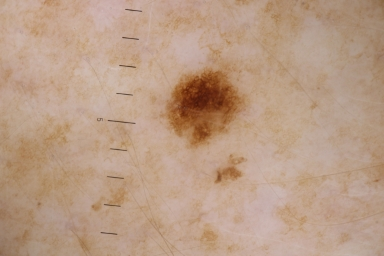nevus: (168, 70, 243, 144)
